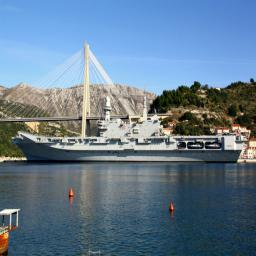Portanaves: (12, 87, 249, 166)
